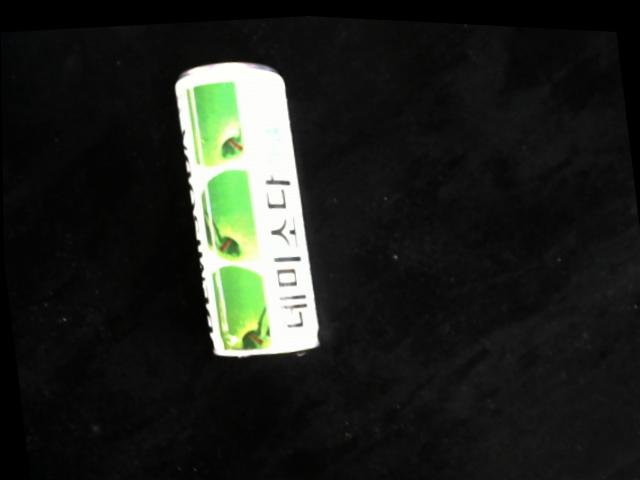can: (173, 57, 321, 357)
